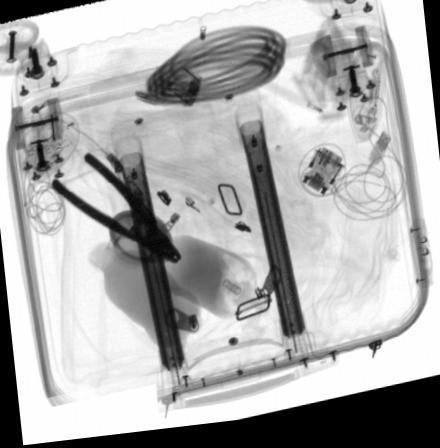Pliers: (51, 151, 181, 269)
